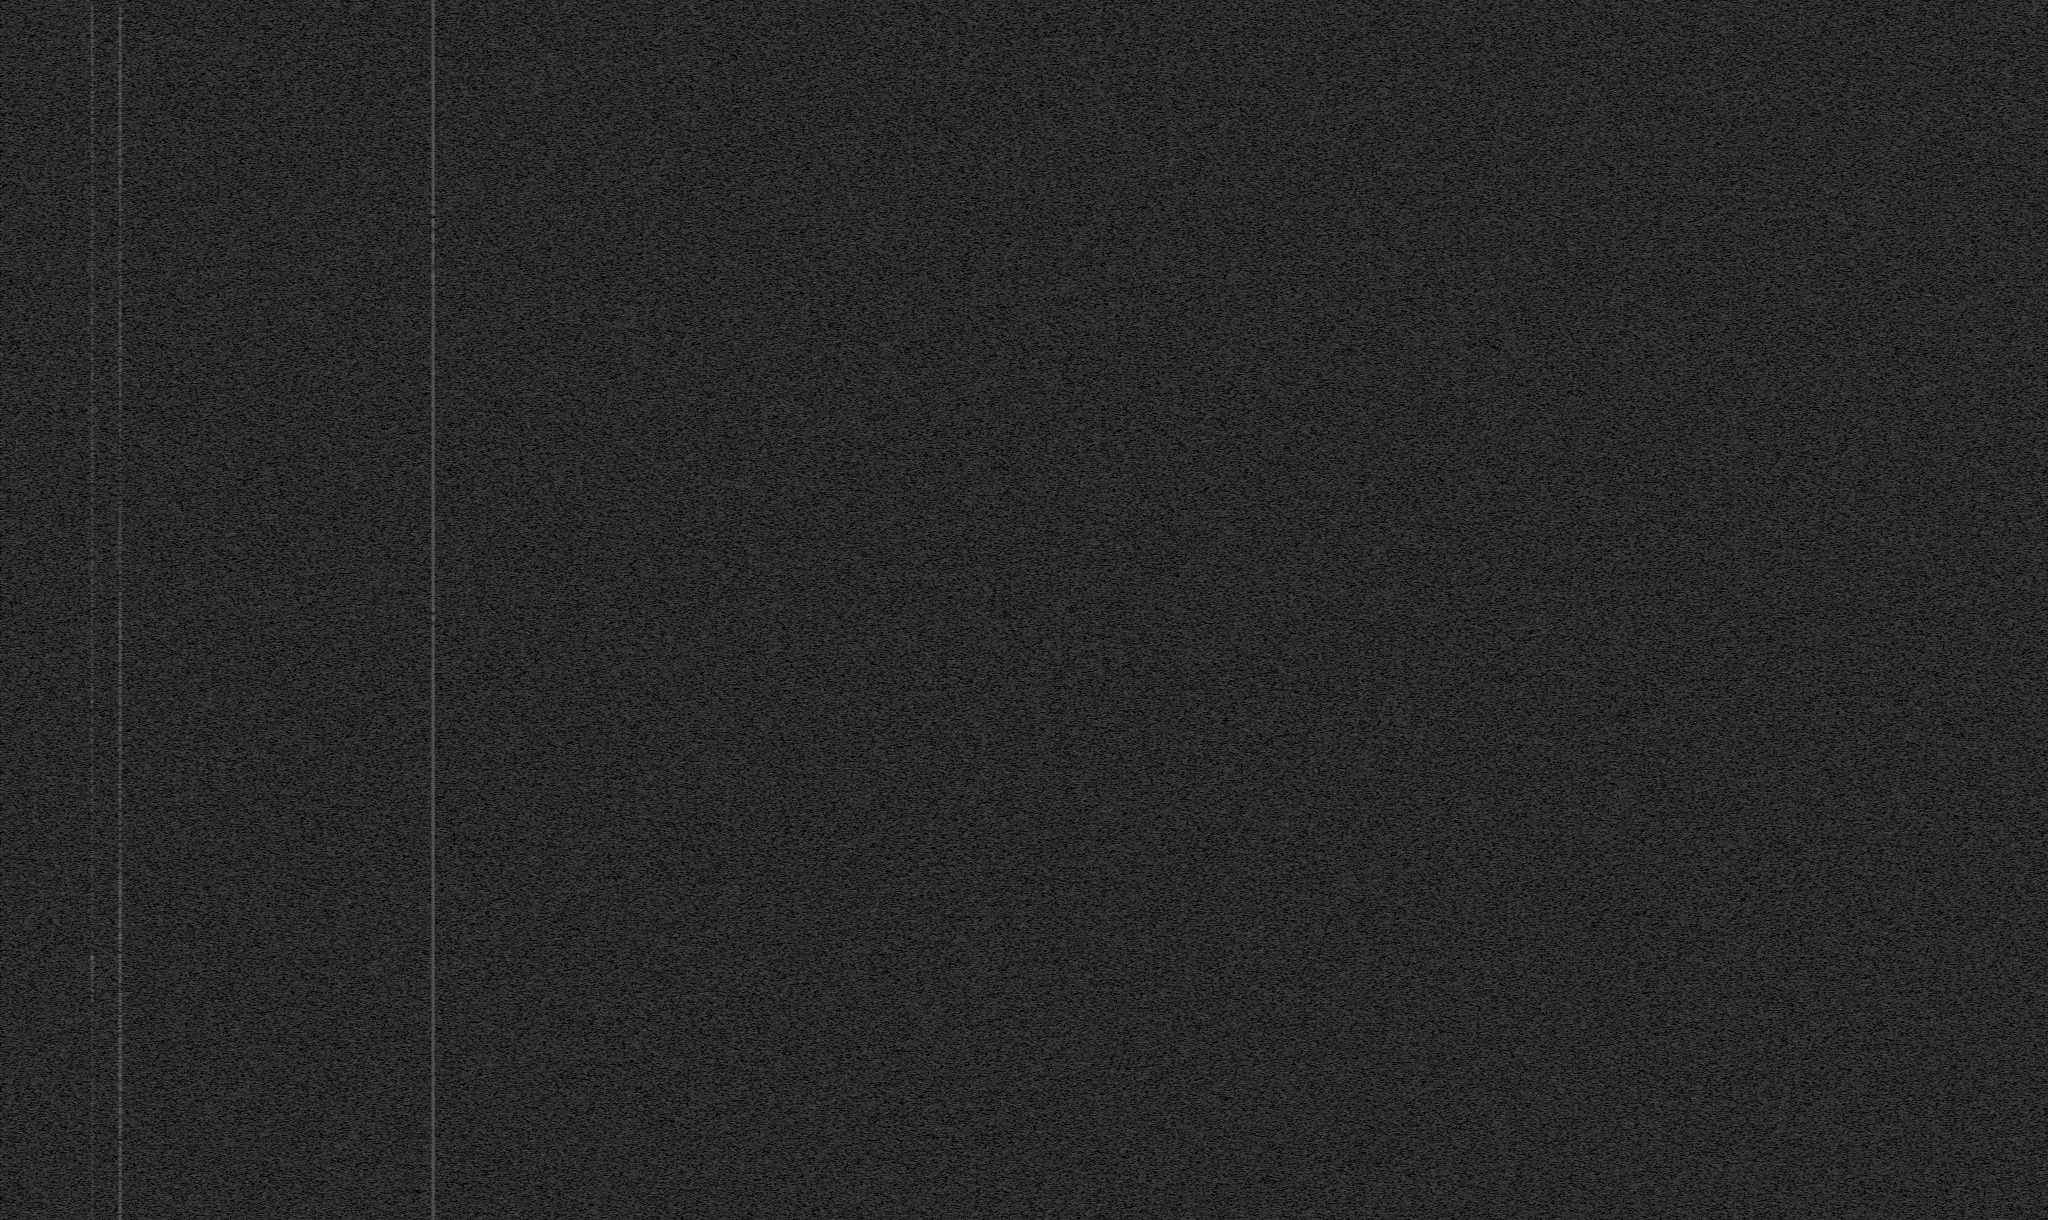wv_am: (430, 0, 436, 1220)
wv_lsb: (118, 232, 123, 841), (118, 842, 123, 1220), (118, 4, 123, 232)
wv_usb: (89, 487, 94, 1174), (89, 4, 94, 292), (89, 293, 94, 423), (90, 424, 94, 487), (90, 1189, 94, 1220), (90, 1175, 94, 1188)
